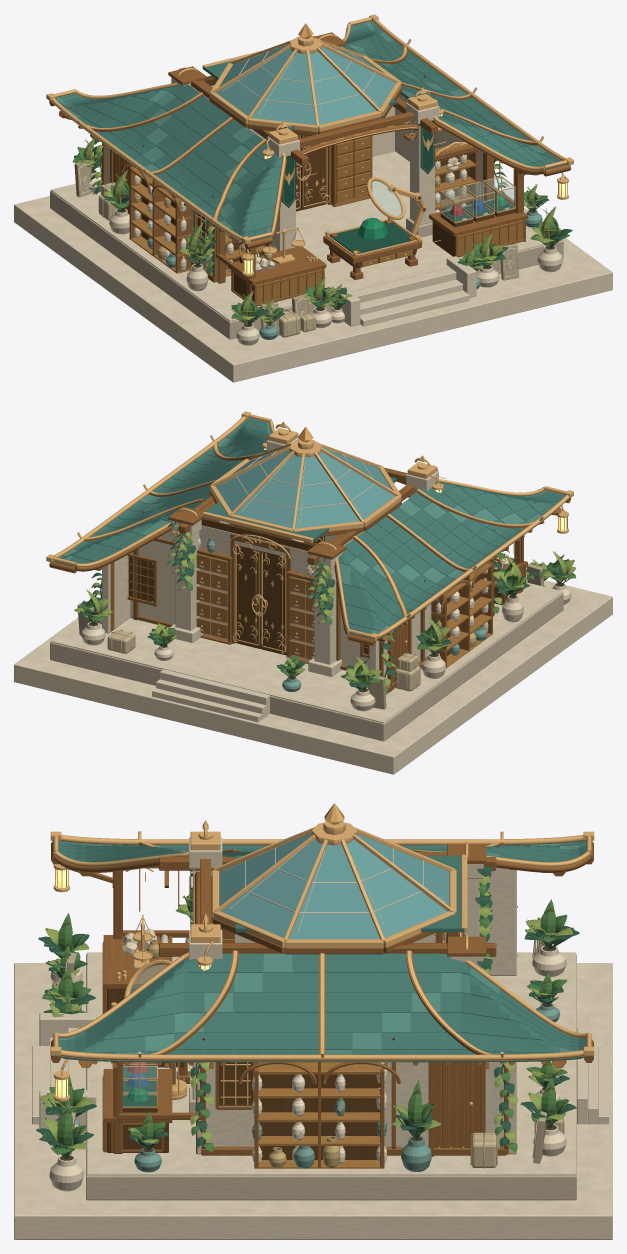
The model's file is appraisal-v50.glb.
3 views of the same model, one above another, from view 1: azimuth 30°, elevation 25°; view 2: azimuth 150°, elevation 25°; view 3: azimuth 270°, elevation 25° (orthographic). The views are drawn at different scales.
Visible parts, largest first — view 1: SM_APP_MAT_APP_WarmIvory.021, SM_APP_MAT_APP_TealRoof.021, SM_APP_MAT_APP_HoneyTimber.021, SM_APP_MAT_APP_BrassGold.021, SM_APP_MAT_APP_SourceTintCrownGlass, SM_APP_MAT_APP_DrawerWood.021, SM_APP_MAT_APP_Limestone.021, SM_APP_MAT_APP_LeafLime.021, SM_APP_MAT_APP_TealRoofAlt.021, SM_APP_MAT_APP_Walnut.021, SM_APP_MAT_APP_EmeraldVelvet.021, SM_APP_MAT_APP_DisplayGlass.021 (+9 smaller); view 2: SM_APP_MAT_APP_WarmIvory.021, SM_APP_MAT_APP_TealRoof.021, SM_APP_MAT_APP_HoneyTimber.021, SM_APP_MAT_APP_BrassGold.021, SM_APP_MAT_APP_SourceTintCrownGlass, SM_APP_MAT_APP_Limestone.021, SM_APP_MAT_APP_DrawerWood.021, SM_APP_MAT_APP_TealRoofAlt.021, SM_APP_MAT_APP_LeafLime.021, SM_APP_MAT_APP_LeafDark.021, SM_APP_MAT_APP_LeafJade.021, SM_APP_MAT_APP_Walnut_APP_GrandDoorHinge_1.021 (+8 smaller); view 3: SM_APP_MAT_APP_WarmIvory.021, SM_APP_MAT_APP_TealRoof.021, SM_APP_MAT_APP_HoneyTimber.021, SM_APP_MAT_APP_BrassGold.021, SM_APP_MAT_APP_SourceTintCrownGlass, SM_APP_MAT_APP_Limestone.021, SM_APP_MAT_APP_Walnut.021, SM_APP_MAT_APP_LeafJade.021, SM_APP_MAT_APP_DrawerWood.021, SM_APP_MAT_APP_TealRoofAlt.021, SM_APP_MAT_APP_LeafDark.021, SM_APP_MAT_APP_LeafLime.021 (+8 smaller).
Boxes of the visible parts, box(x1,y1,x2,y2) form: SM_APP_MAT_APP_WarmIvory.021: box(14, 44, 612, 382); SM_APP_MAT_APP_TealRoof.021: box(54, 21, 566, 243); SM_APP_MAT_APP_HoneyTimber.021: box(49, 27, 571, 307); SM_APP_MAT_APP_BrassGold.021: box(46, 14, 573, 276); SM_APP_MAT_APP_SourceTintCrownGlass: box(216, 44, 395, 125); SM_APP_MAT_APP_DrawerWood.021: box(129, 136, 523, 303); SM_APP_MAT_APP_Limestone.021: box(50, 190, 563, 339); SM_APP_MAT_APP_LeafLime.021: box(78, 139, 561, 324); SM_APP_MAT_APP_TealRoofAlt.021: box(55, 21, 545, 232); SM_APP_MAT_APP_Walnut.021: box(141, 75, 521, 305); SM_APP_MAT_APP_EmeraldVelvet.021: box(281, 121, 513, 253); SM_APP_MAT_APP_DisplayGlass.021: box(441, 177, 514, 221); SM_APP_MAT_APP_WarmIvory.021: box(14, 437, 612, 774); SM_APP_MAT_APP_TealRoof.021: box(53, 418, 566, 640); SM_APP_MAT_APP_HoneyTimber.021: box(49, 423, 570, 693); SM_APP_MAT_APP_BrassGold.021: box(46, 411, 573, 688); SM_APP_MAT_APP_SourceTintCrownGlass: box(216, 448, 395, 528); SM_APP_MAT_APP_Limestone.021: box(50, 592, 563, 741); SM_APP_MAT_APP_DrawerWood.021: box(196, 554, 493, 667); SM_APP_MAT_APP_TealRoofAlt.021: box(63, 422, 547, 634); SM_APP_MAT_APP_LeafLime.021: box(74, 524, 576, 689); SM_APP_MAT_APP_LeafDark.021: box(80, 521, 575, 690); SM_APP_MAT_APP_LeafJade.021: box(80, 528, 575, 694); SM_APP_MAT_APP_Walnut_APP_GrandDoorHinge_1.021: box(235, 545, 261, 648); SM_APP_MAT_APP_WarmIvory.021: box(14, 834, 612, 1239); SM_APP_MAT_APP_TealRoof.021: box(58, 840, 586, 1062); SM_APP_MAT_APP_HoneyTimber.021: box(51, 841, 593, 1168); SM_APP_MAT_APP_BrassGold.021: box(50, 803, 594, 1161); SM_APP_MAT_APP_SourceTintCrownGlass: box(219, 833, 449, 939); SM_APP_MAT_APP_Limestone.021: box(86, 954, 576, 1200); SM_APP_MAT_APP_Walnut.021: box(107, 932, 507, 1159); SM_APP_MAT_APP_LeafJade.021: box(42, 884, 569, 1157); SM_APP_MAT_APP_DrawerWood.021: box(111, 932, 488, 1168); SM_APP_MAT_APP_TealRoofAlt.021: box(58, 842, 586, 1054); SM_APP_MAT_APP_LeafDark.021: box(35, 866, 579, 1158); SM_APP_MAT_APP_LeafLime.021: box(40, 876, 572, 1149).
Bounding box in the file's own units: 10 × 5.72 × 10.
29 materials, 6 textured.
